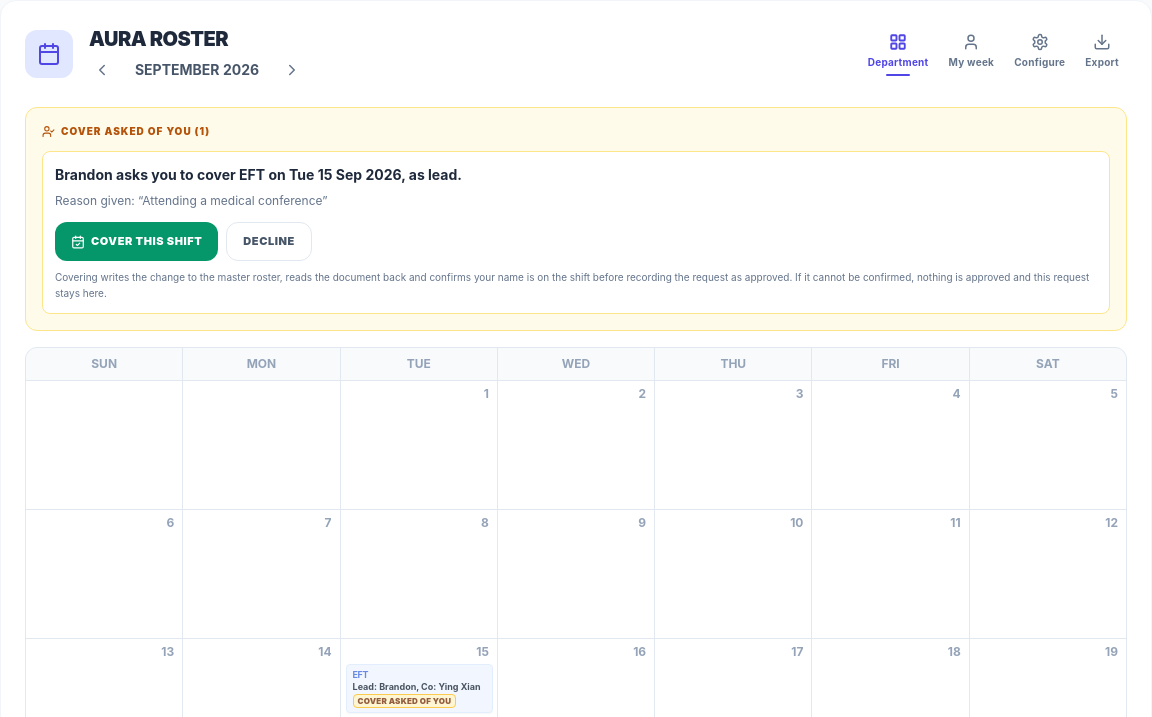
Scenario: a swap that cannot be applied leaves the request PENDING and says so › does NOT approve when the write cannot be found on read-back
The width and height of the screenshot is (1152, 717).
Click the button "Cover this shift".
click(137, 242)  # box x1=55 y1=222 x2=218 y2=261
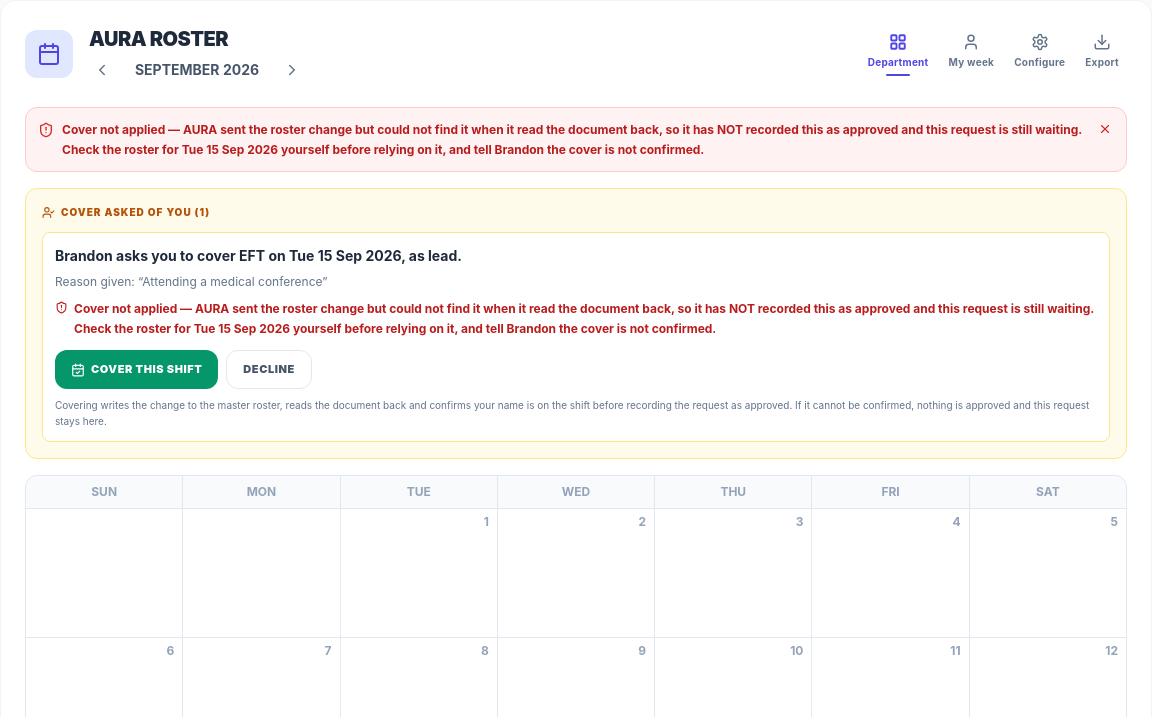
Check: the 1st text "could not find it when it read the document back" is shown, box x1=62 y1=122 x2=1082 y2=156
